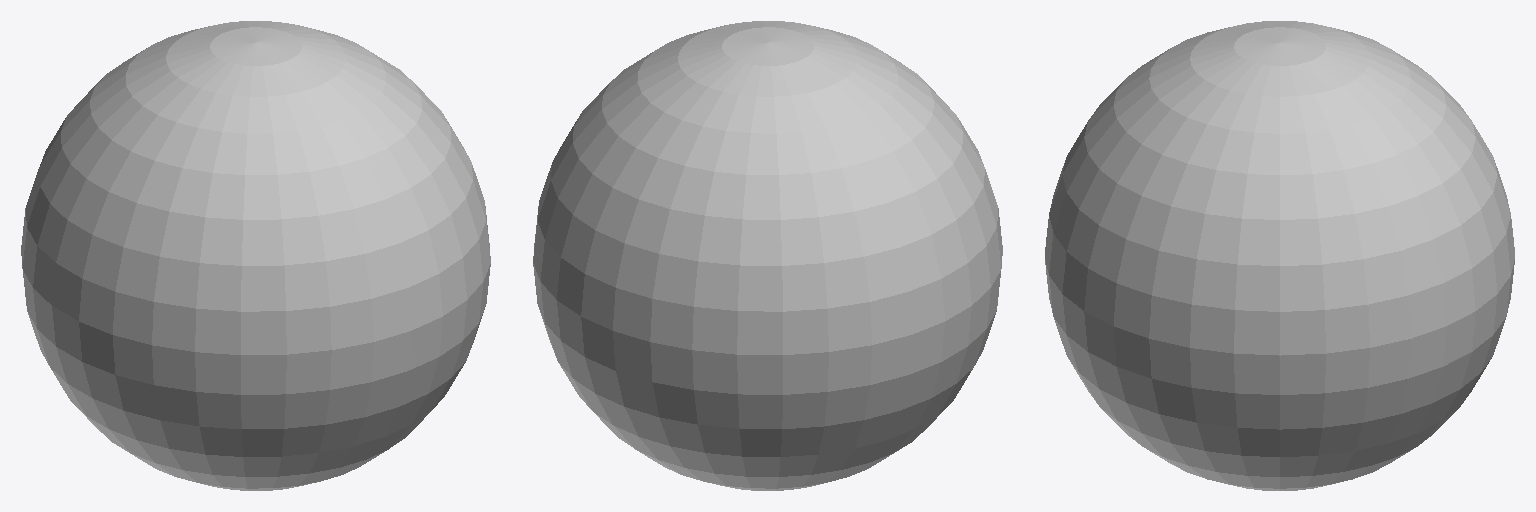
File: star.obj
3 views of the same model, side by side, from view 1: azimuth 30°, elevation 25°; view 2: azimuth 150°, elevation 25°; view 3: azimuth 270°, elevation 25° (orthographic).
Parts seen in each view (by area): view 1: Mesh1 skp81A9_1 Model; view 2: Mesh1 skp81A9_1 Model; view 3: Mesh1 skp81A9_1 Model.
Part boxes in pixels (x1,y1,x2,y2): Mesh1 skp81A9_1 Model: (21,21,490,490); Mesh1 skp81A9_1 Model: (533,21,1002,490); Mesh1 skp81A9_1 Model: (1045,21,1514,490).
Size of the model in its own units: 2 by 2 by 2.